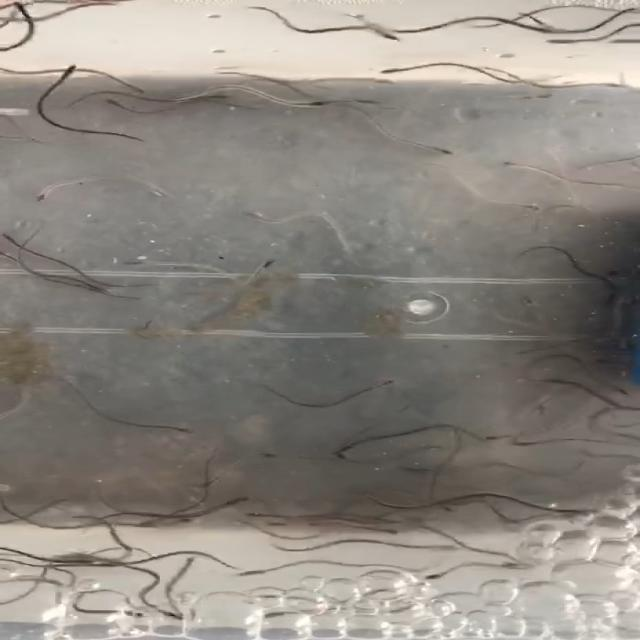active_glass_eel: (308, 95, 366, 112), (366, 373, 401, 395), (98, 98, 146, 114), (108, 603, 148, 622), (558, 314, 590, 337), (413, 140, 465, 154), (0, 503, 36, 523), (176, 550, 210, 571), (112, 84, 160, 98), (422, 541, 470, 555), (421, 567, 460, 584), (27, 186, 68, 202), (256, 606, 292, 624), (170, 418, 202, 438), (219, 492, 259, 508), (45, 562, 98, 574), (594, 291, 630, 308), (464, 493, 495, 512), (371, 29, 413, 43), (58, 0, 111, 11), (232, 204, 266, 221), (134, 313, 168, 330), (343, 73, 387, 86), (195, 89, 233, 104), (152, 607, 187, 623), (329, 442, 357, 462), (545, 34, 582, 49), (0, 0, 40, 13), (257, 515, 291, 530), (138, 514, 174, 528), (508, 435, 536, 453), (560, 158, 596, 172), (521, 91, 551, 107), (251, 449, 285, 463), (0, 246, 29, 262), (258, 253, 290, 267), (584, 80, 628, 90), (511, 290, 535, 308), (378, 65, 412, 77), (59, 63, 86, 78), (229, 568, 265, 579), (0, 230, 22, 246), (538, 25, 566, 37), (493, 155, 519, 167), (517, 200, 543, 211)
